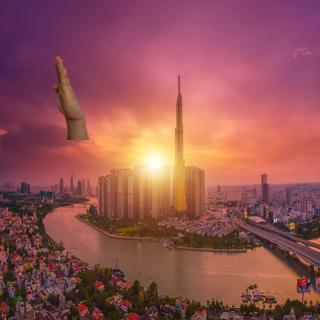RIGHT: (48, 50, 83, 119)
